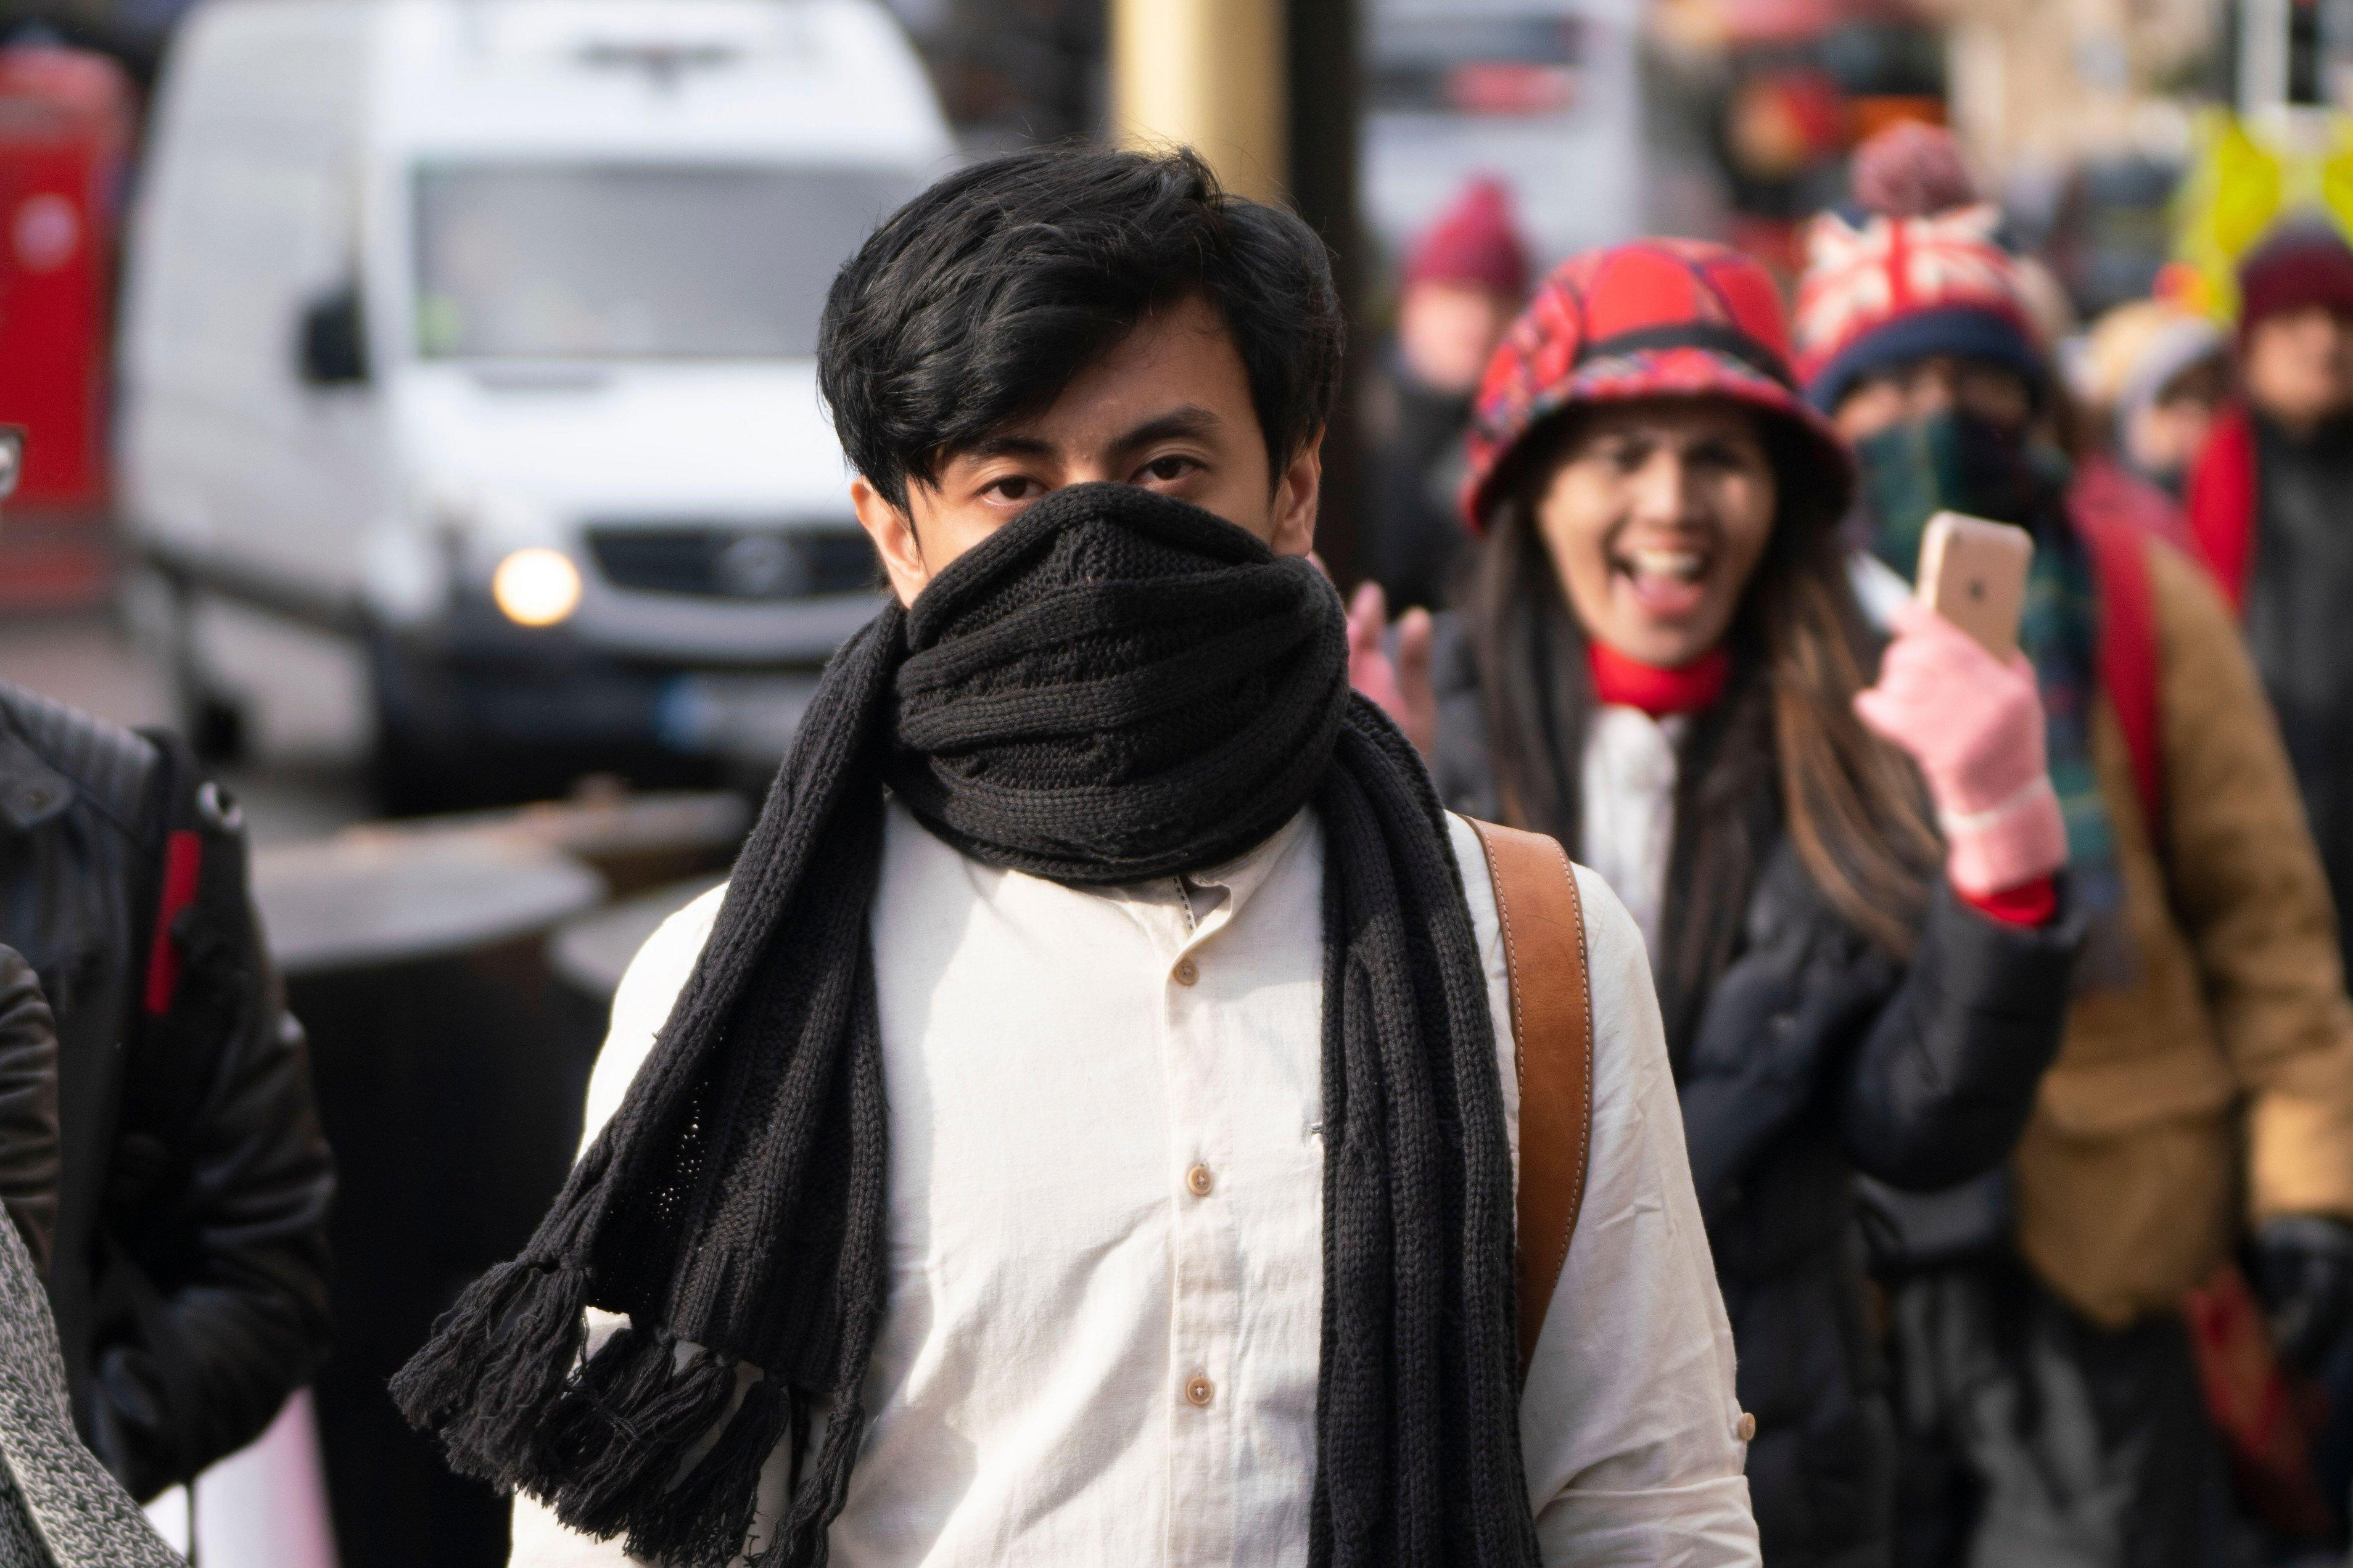face_no_mask: (1501, 308, 1805, 673)
face_with_mask: (862, 205, 1330, 724)
